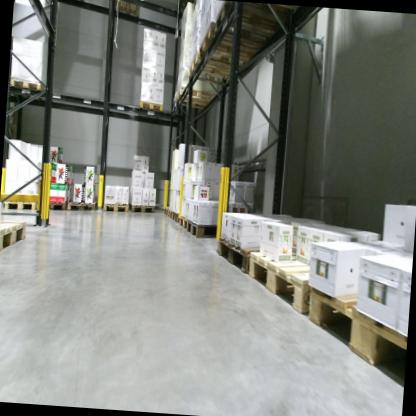pallet: (301, 284, 410, 381), (244, 246, 315, 328), (196, 23, 263, 78), (187, 47, 260, 91), (214, 0, 292, 41), (215, 235, 274, 282), (177, 213, 230, 242), (170, 84, 218, 111), (0, 217, 28, 257), (9, 74, 45, 101), (1, 194, 39, 213), (113, 0, 142, 24), (36, 196, 68, 213), (67, 198, 99, 214), (128, 199, 157, 216), (101, 201, 130, 214), (139, 99, 165, 113), (57, 0, 89, 6), (171, 210, 179, 227), (167, 206, 173, 222), (164, 204, 168, 218)
